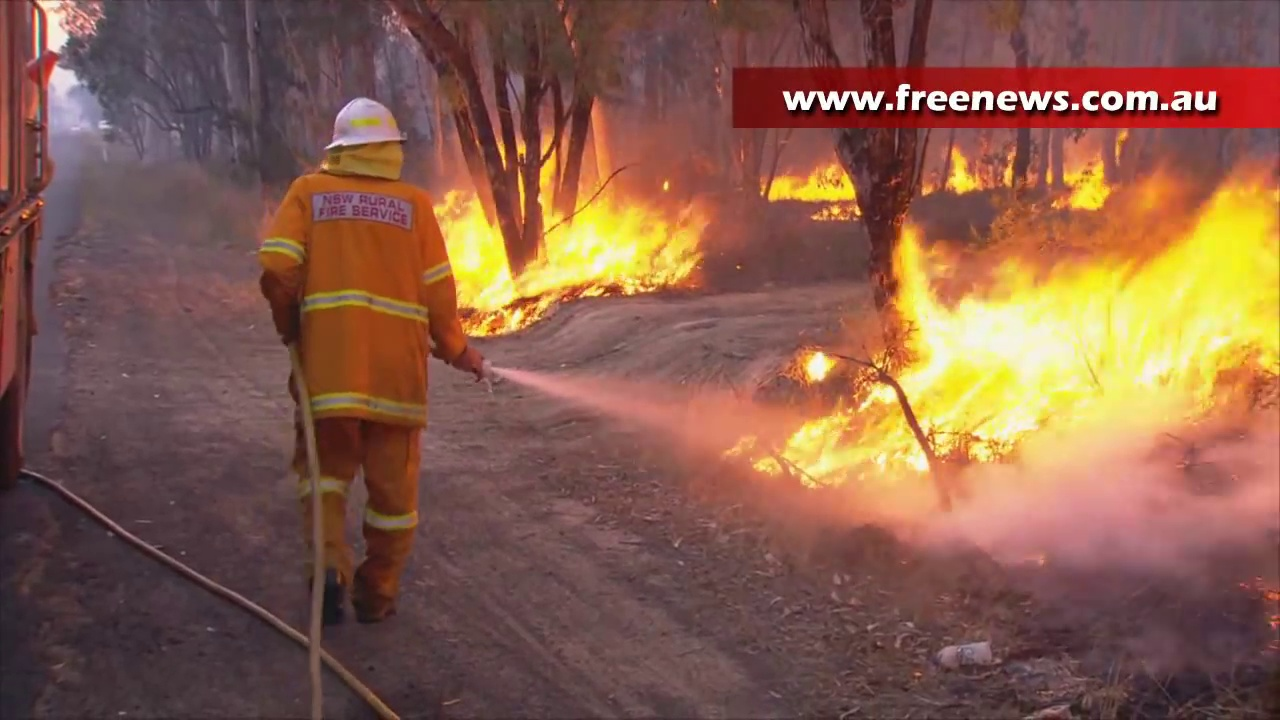fire: (791, 203, 1280, 473), (439, 195, 703, 328), (773, 166, 850, 206), (1066, 155, 1107, 205), (952, 154, 978, 193)
